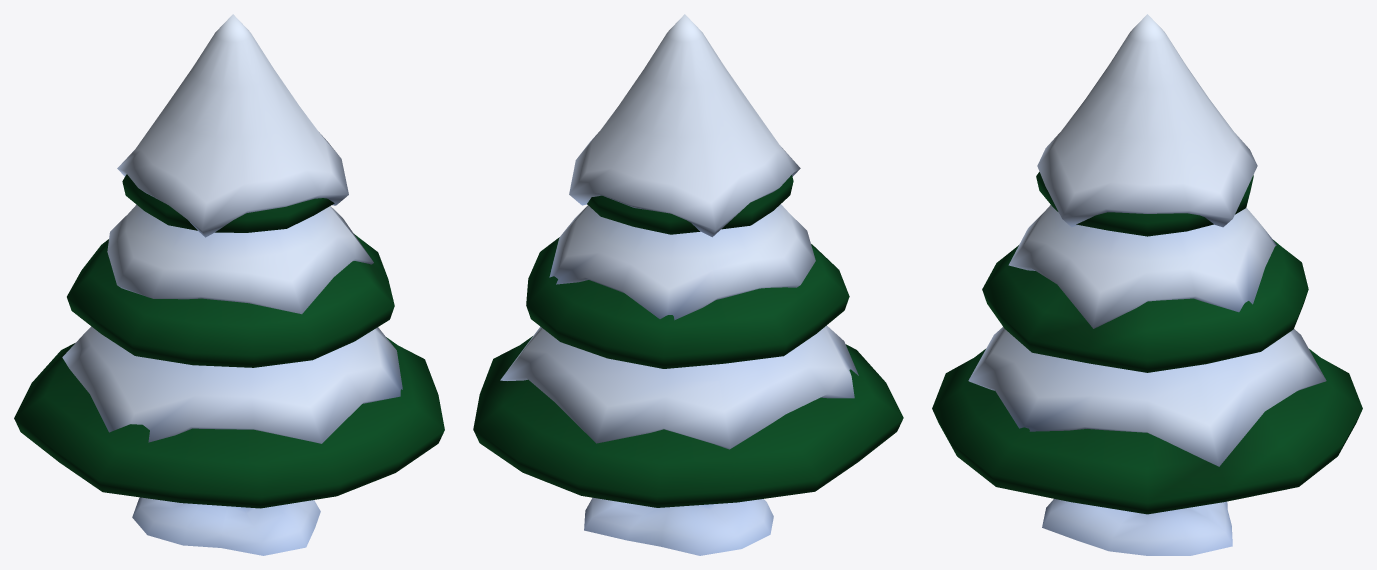
File: Tree_SnowyPineSmall.fbx
3 renders of one model, left to right at view 1: azimuth 30°, elevation 25°; view 2: azimuth 150°, elevation 25°; view 3: azimuth 270°, elevation 25°, orthographic.
Parts seen in each view (by area): view 1: Canopy, Tree_SnowyPineSmall; view 2: Canopy, Tree_SnowyPineSmall; view 3: Canopy, Tree_SnowyPineSmall.
Boxes of the visible parts, bbox=[...] form: Canopy: bbox=[14, 14, 444, 508]; Tree_SnowyPineSmall: bbox=[132, 497, 320, 555]; Canopy: bbox=[473, 14, 903, 507]; Tree_SnowyPineSmall: bbox=[584, 497, 773, 555]; Canopy: bbox=[932, 14, 1362, 514]; Tree_SnowyPineSmall: bbox=[1042, 499, 1232, 555].
Size of the model in its own units: 1.9 by 2.45 by 1.9.
